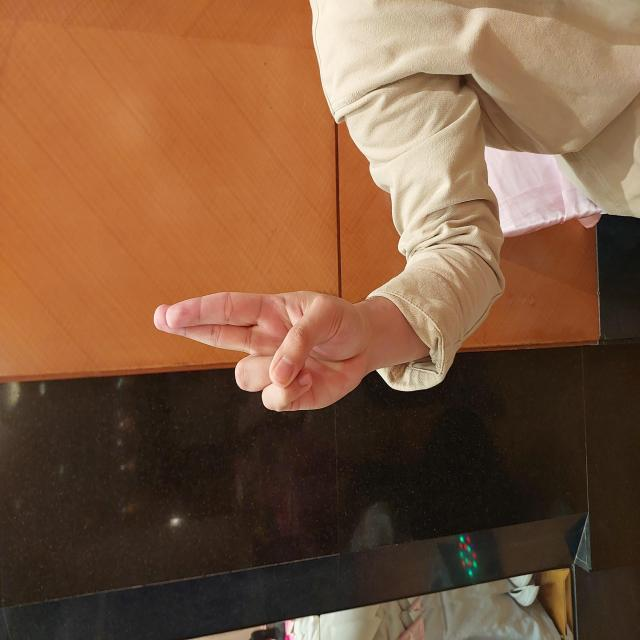R: (227, 151, 352, 372)
